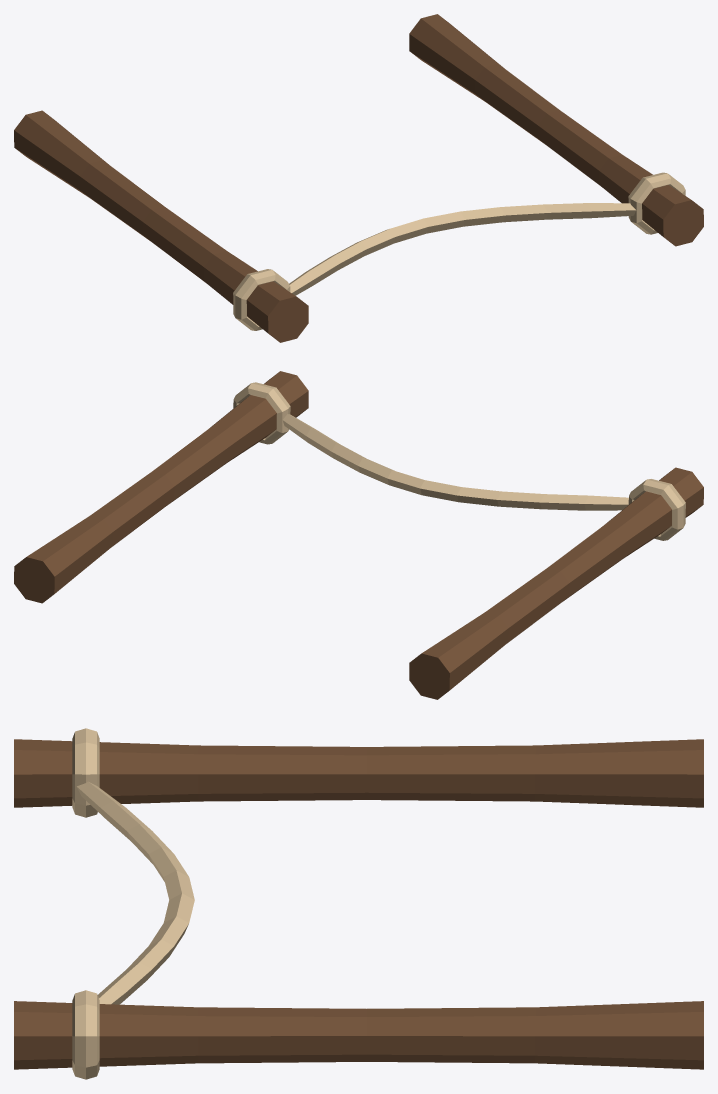
Rendered from Barrier_04.fbx.
3 renders of one model, top to bottom at view 1: azimuth 30°, elevation 25°; view 2: azimuth 150°, elevation 25°; view 3: azimuth 270°, elevation 25°, orthographic. The views are drawn at different scales.
Visible parts, largest first — view 1: Barriere_4; view 2: Barriere_4; view 3: Barriere_4.
Boxes of the visible parts, x1,y1,x2,y2 form: Barriere_4: (14, 14, 703, 342); Barriere_4: (14, 371, 703, 699); Barriere_4: (14, 728, 703, 1079).
Bounding box in the file's own units: 101 × 11.97 × 99.49.
